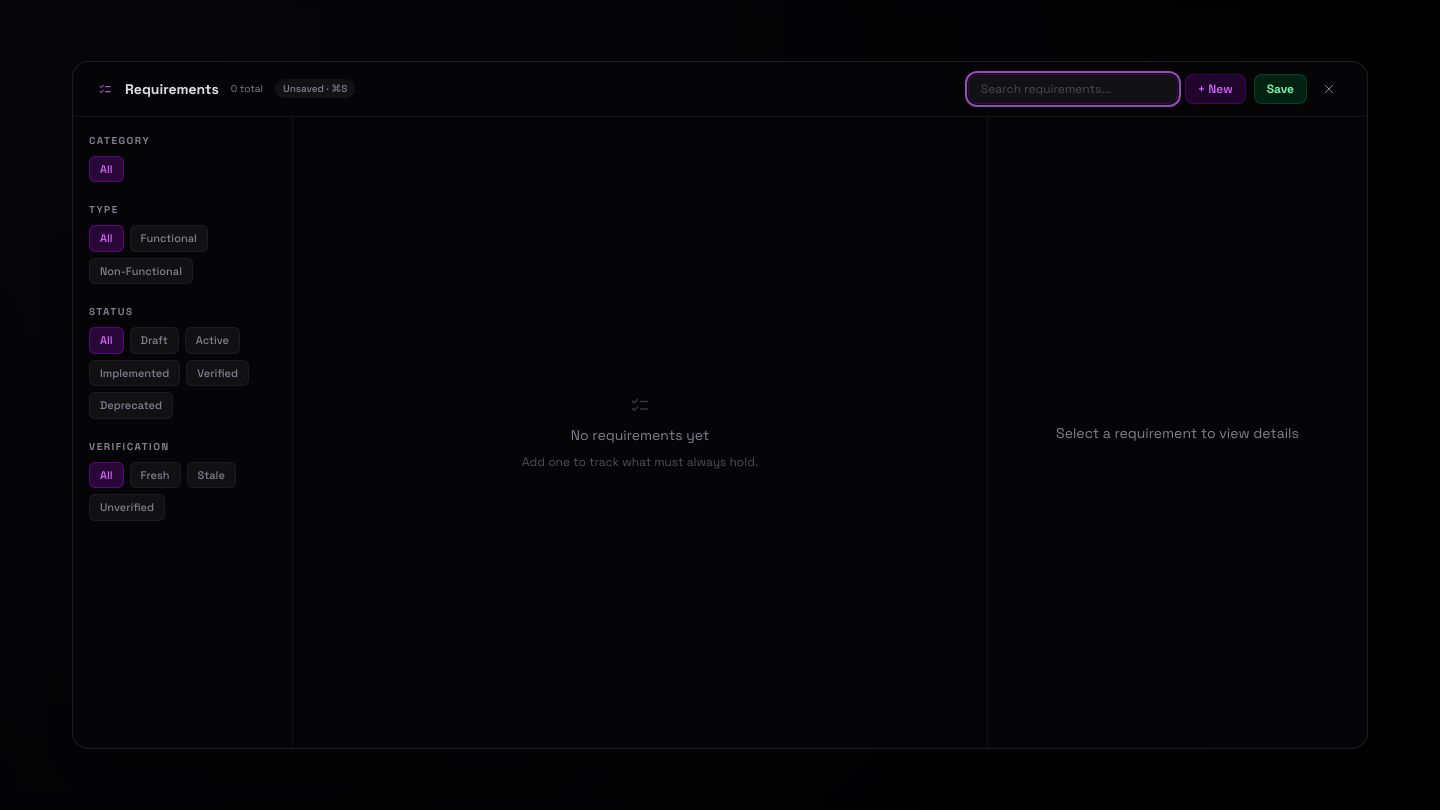
RequirementsModal › keeps unsaved changes when the discard is declined
Click the button with test id "requirements-close-btn": (1329, 89) [1315, 75, 1343, 103]
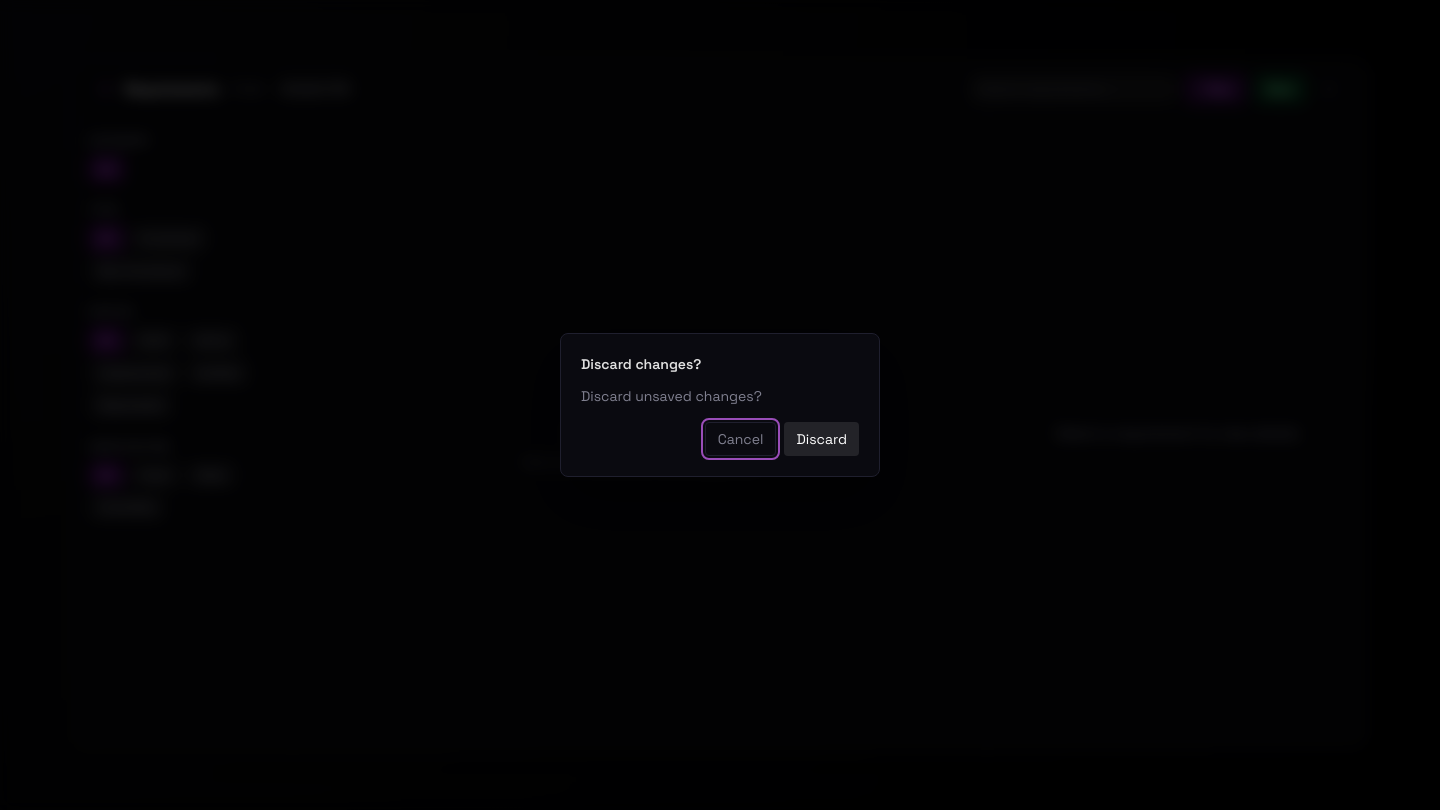
Click the button "Cancel": (741, 439) [705, 422, 776, 456]
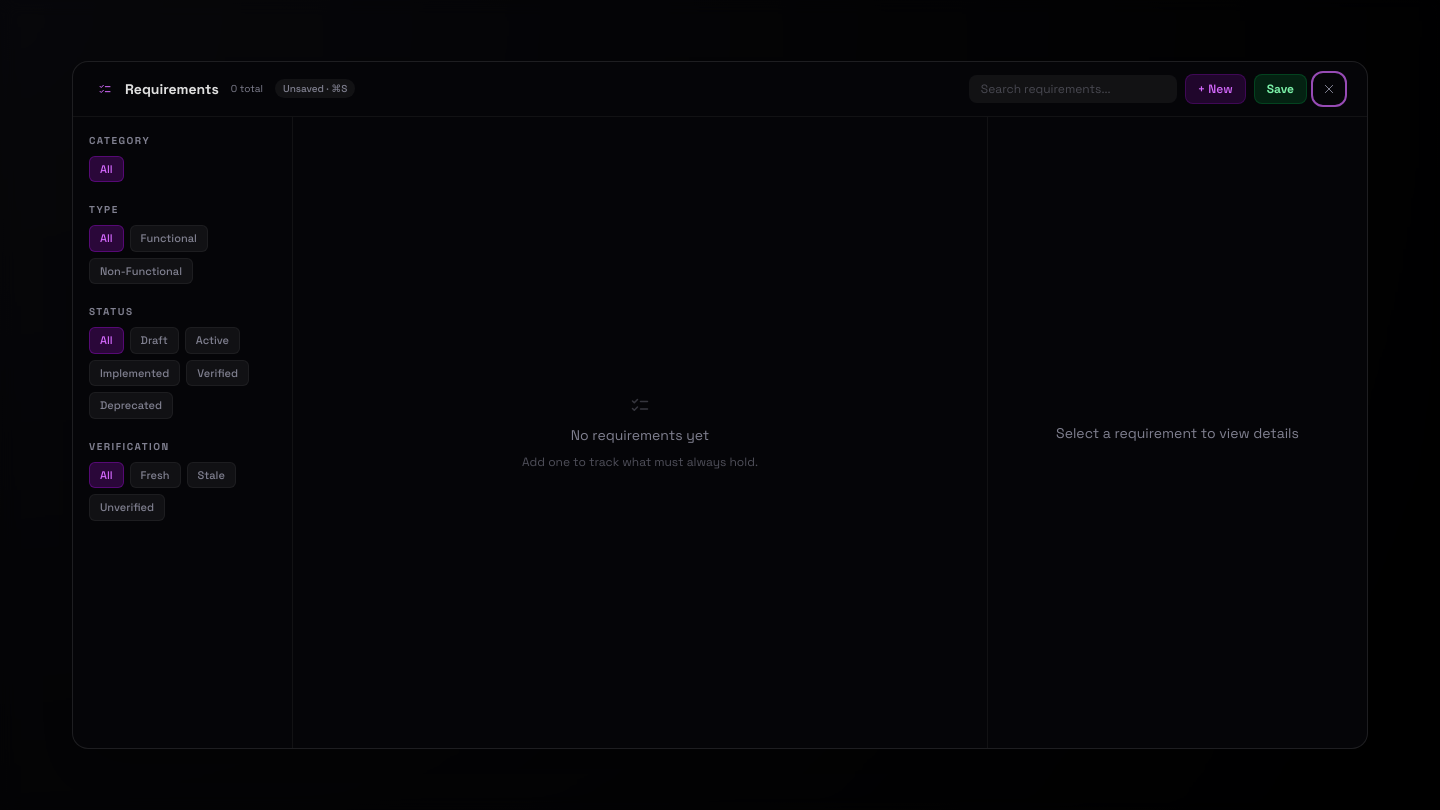
Expected: the heading "Discard changes?" is gone
